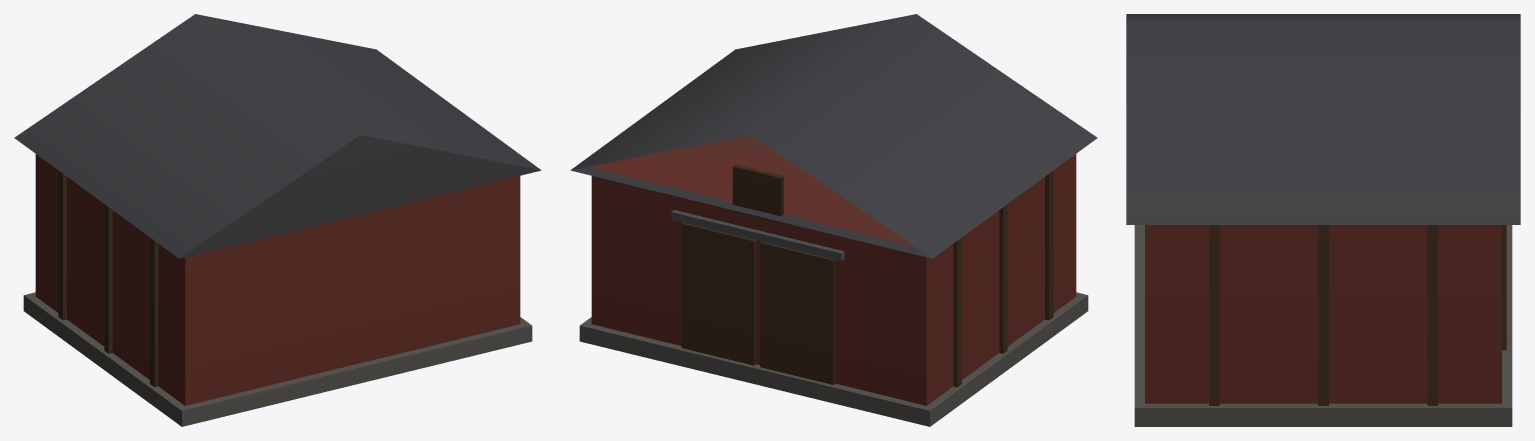
File: ranch_barn.glb
The picture shows the model from 3 angles, left to right: view 1: azimuth 30°, elevation 25°; view 2: azimuth 150°, elevation 25°; view 3: azimuth 270°, elevation 25°; orthographic projection. The views are drawn at different scales.
Visible parts, largest first — view 1: prop; view 2: prop; view 3: prop.
Part boxes in pixels (box(x1,y1,x2,y2)): prop: box(14, 14, 541, 426); prop: box(570, 14, 1097, 426); prop: box(1126, 14, 1520, 426).
Size of the model in its own units: 11.9 by 7.9 by 9.4.
